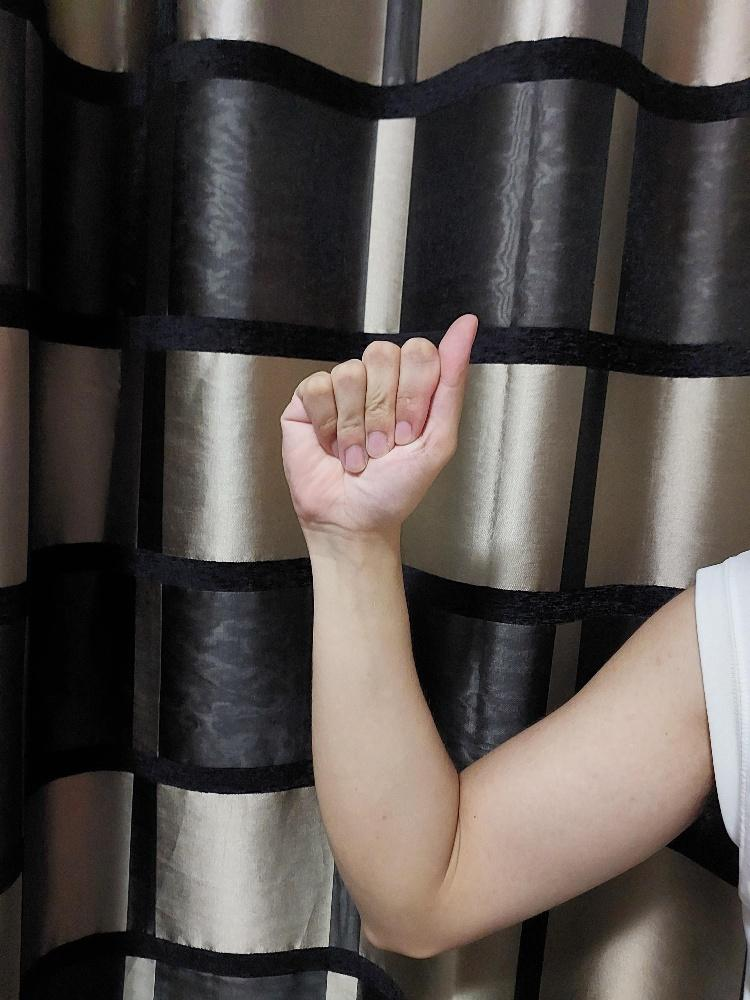a: (278, 310, 479, 536)
